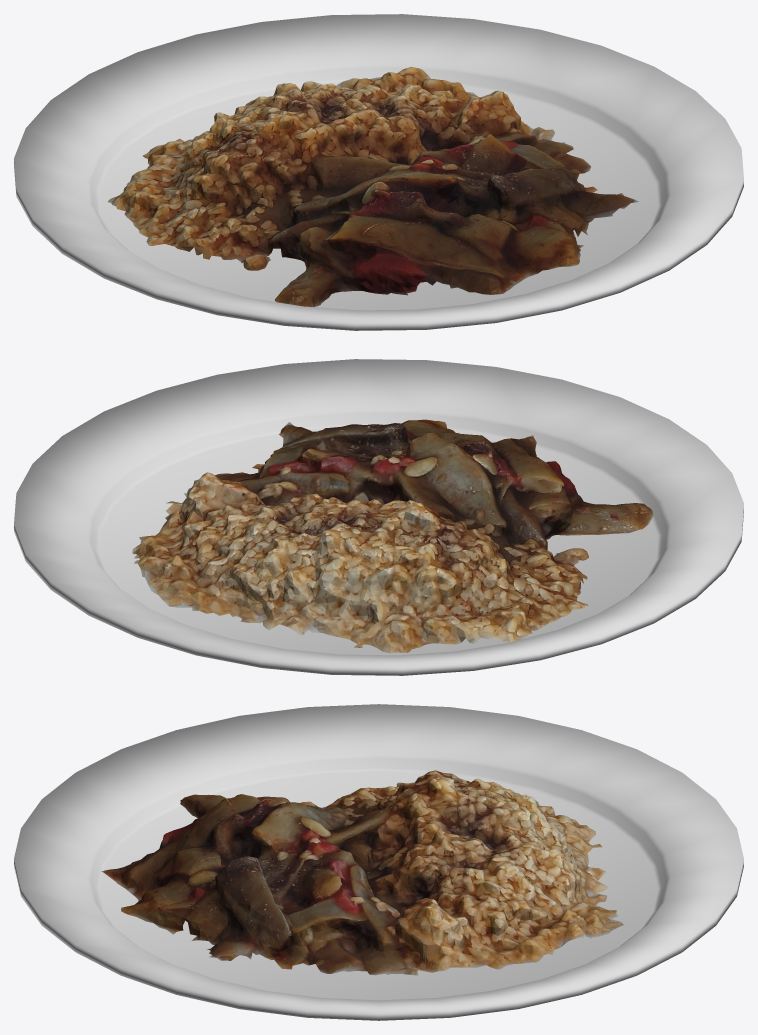
Rendered from fasulye.glb.
The picture shows the model from 3 angles, top to bottom: view 1: azimuth 30°, elevation 25°; view 2: azimuth 150°, elevation 25°; view 3: azimuth 270°, elevation 25°; orthographic projection.
Parts seen in each view (by area): view 1: Cylinder_Cylinder.001, fasulye; view 2: Cylinder_Cylinder.001, fasulye; view 3: Cylinder_Cylinder.001, fasulye.
Boxes of the visible parts, x1,y1,x2,y2 form: Cylinder_Cylinder.001: [14, 14, 743, 330]; fasulye: [108, 67, 638, 306]; Cylinder_Cylinder.001: [14, 359, 743, 675]; fasulye: [132, 419, 653, 653]; Cylinder_Cylinder.001: [14, 704, 743, 1020]; fasulye: [101, 770, 623, 975].
Bounding box in the file's own units: 0.4234 × 0.055 × 0.4234.
2 materials, 1 textured.
